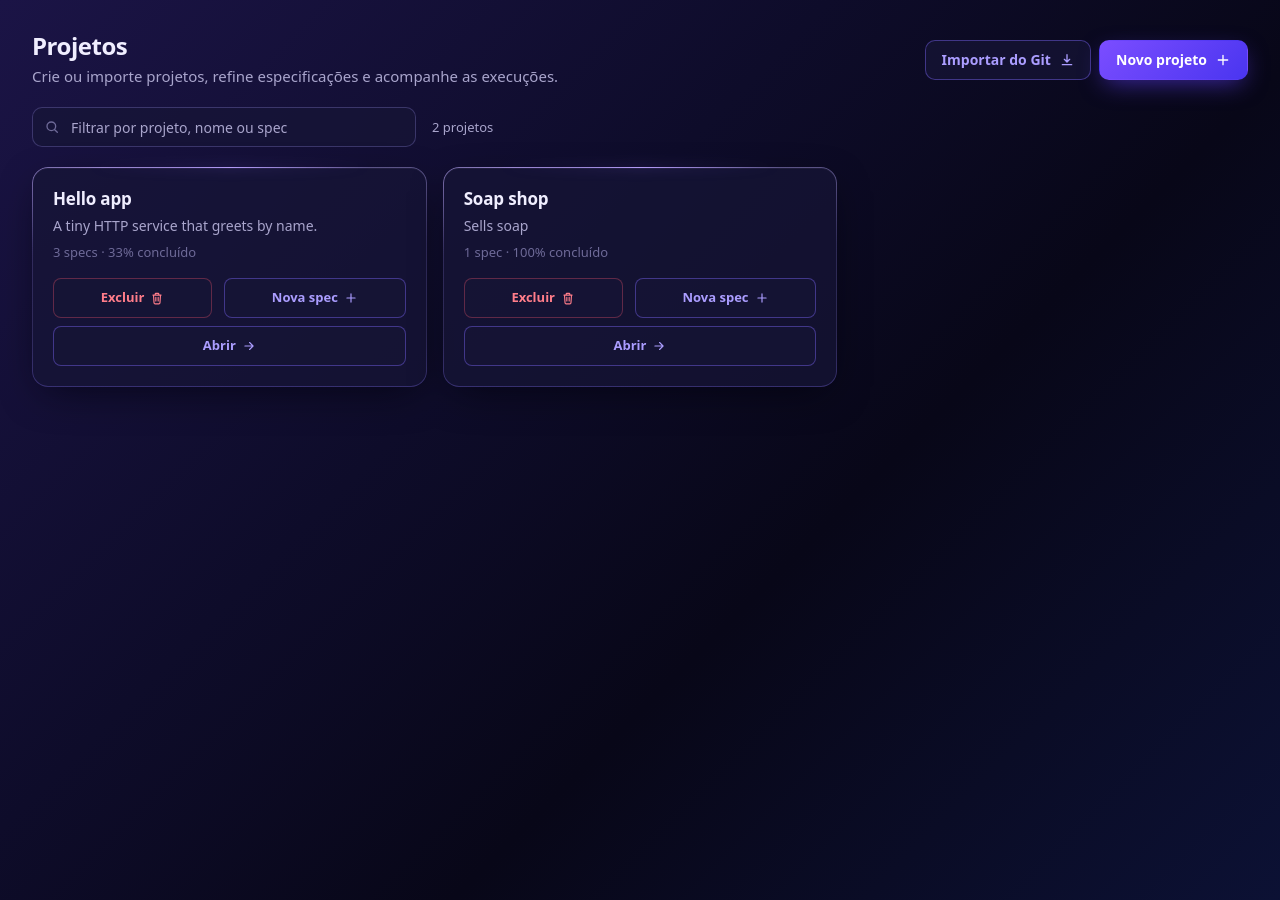
ProjectsView › filters projects by id, name, description, directory and spec, and clears the filter from the empty state
The width and height of the screenshot is (1280, 900).
Expected: the text "2 projetos" is shown, [432, 118, 493, 137]
Type "sells soap" into the search field named "Filtrar projetos" at [224, 127], box [32, 107, 416, 147]
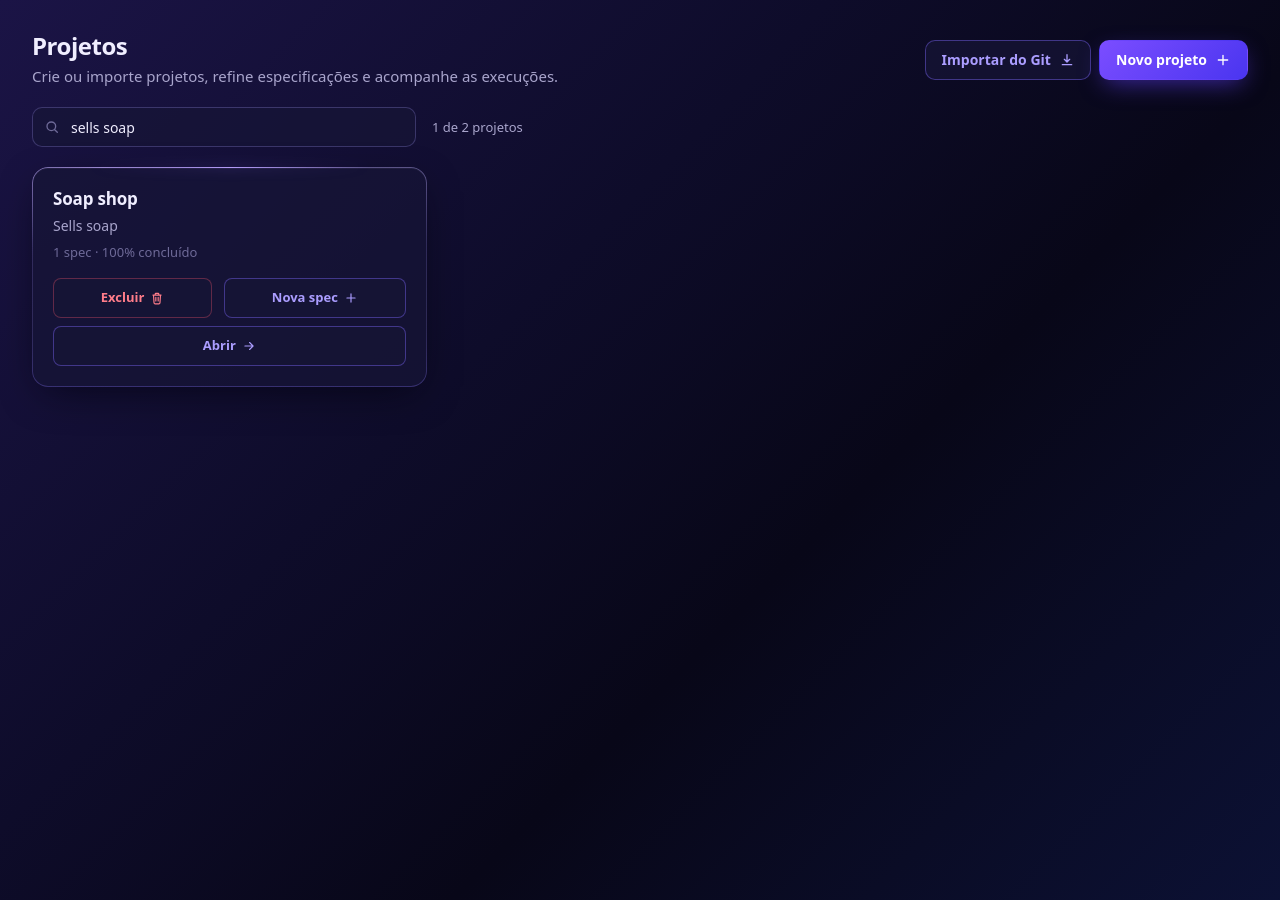
Expected: the text "1 de 2 projetos" is shown, [432, 118, 523, 137]
Replace the text in the search field named "Filtrar projetos" with "shop-001" at [224, 127], box [32, 107, 416, 147]
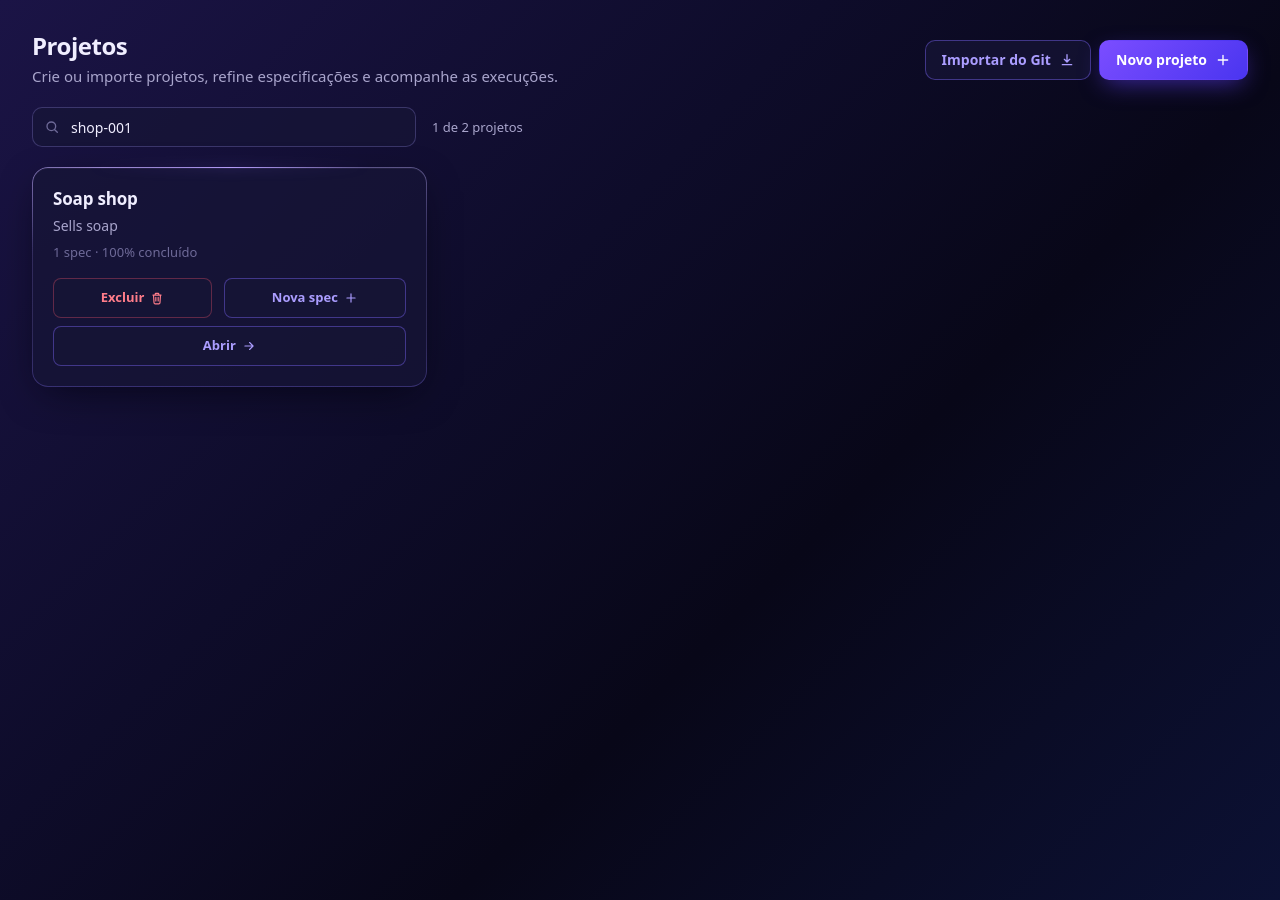
Replace the text in the search field named "Filtrar projetos" with "nada" at [224, 127], box [32, 107, 416, 147]
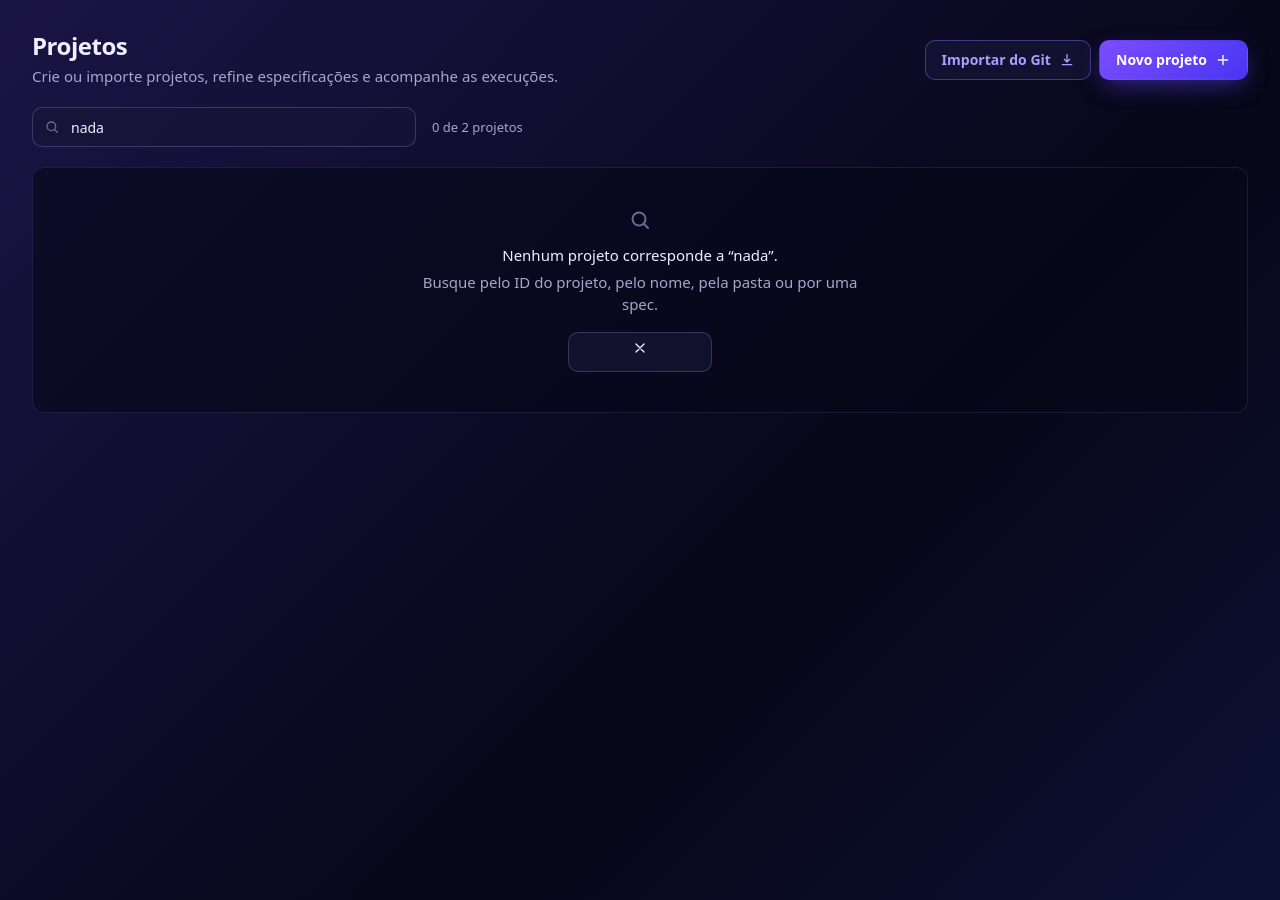
Expected: the text "Nenhum projeto corresponde a “nada”." is shown, [502, 244, 778, 267]
Click the button named "Limpar filtro" at [640, 352], box [568, 332, 712, 372]
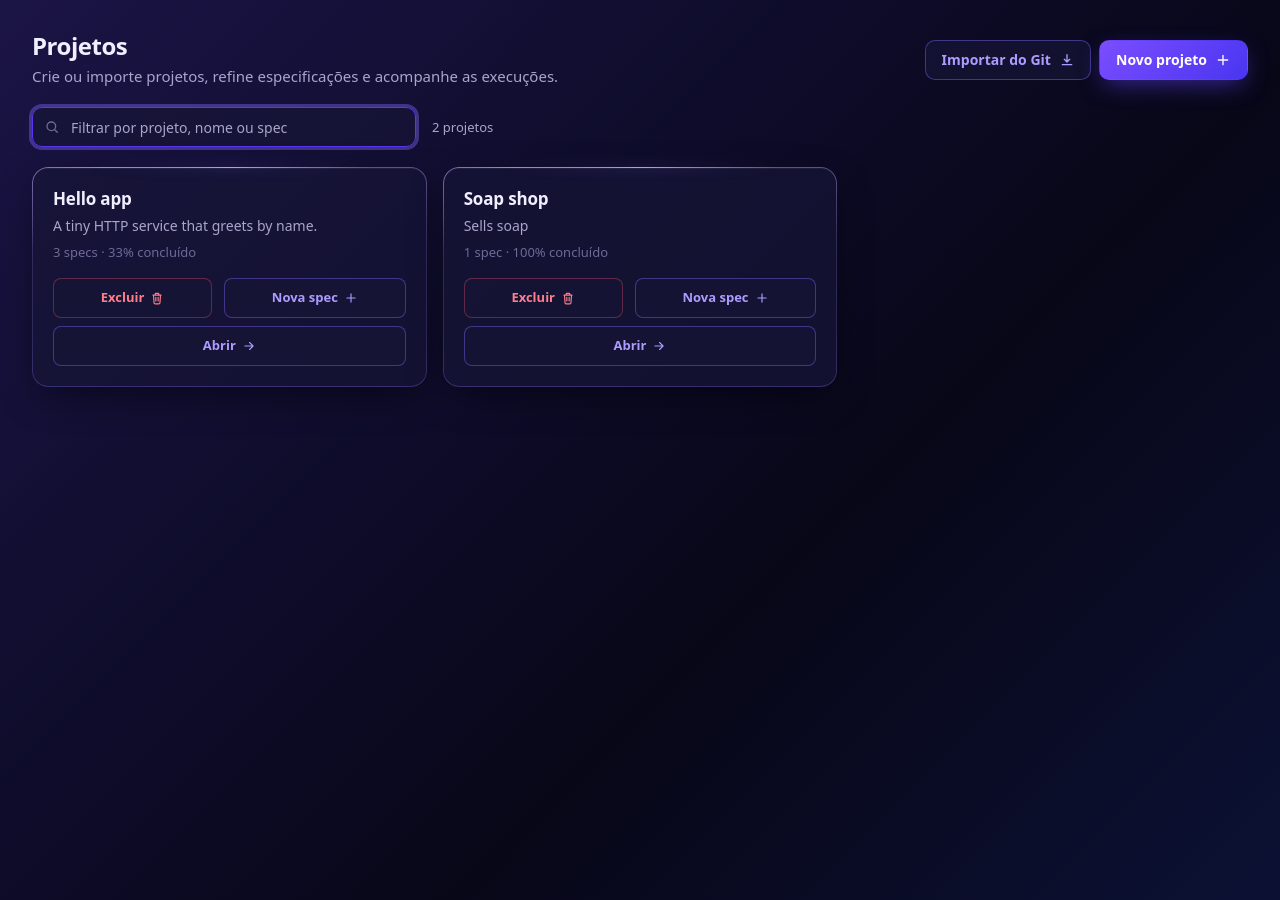
Expected: the search field named "Filtrar projetos" is empty, [32, 107, 416, 147]
